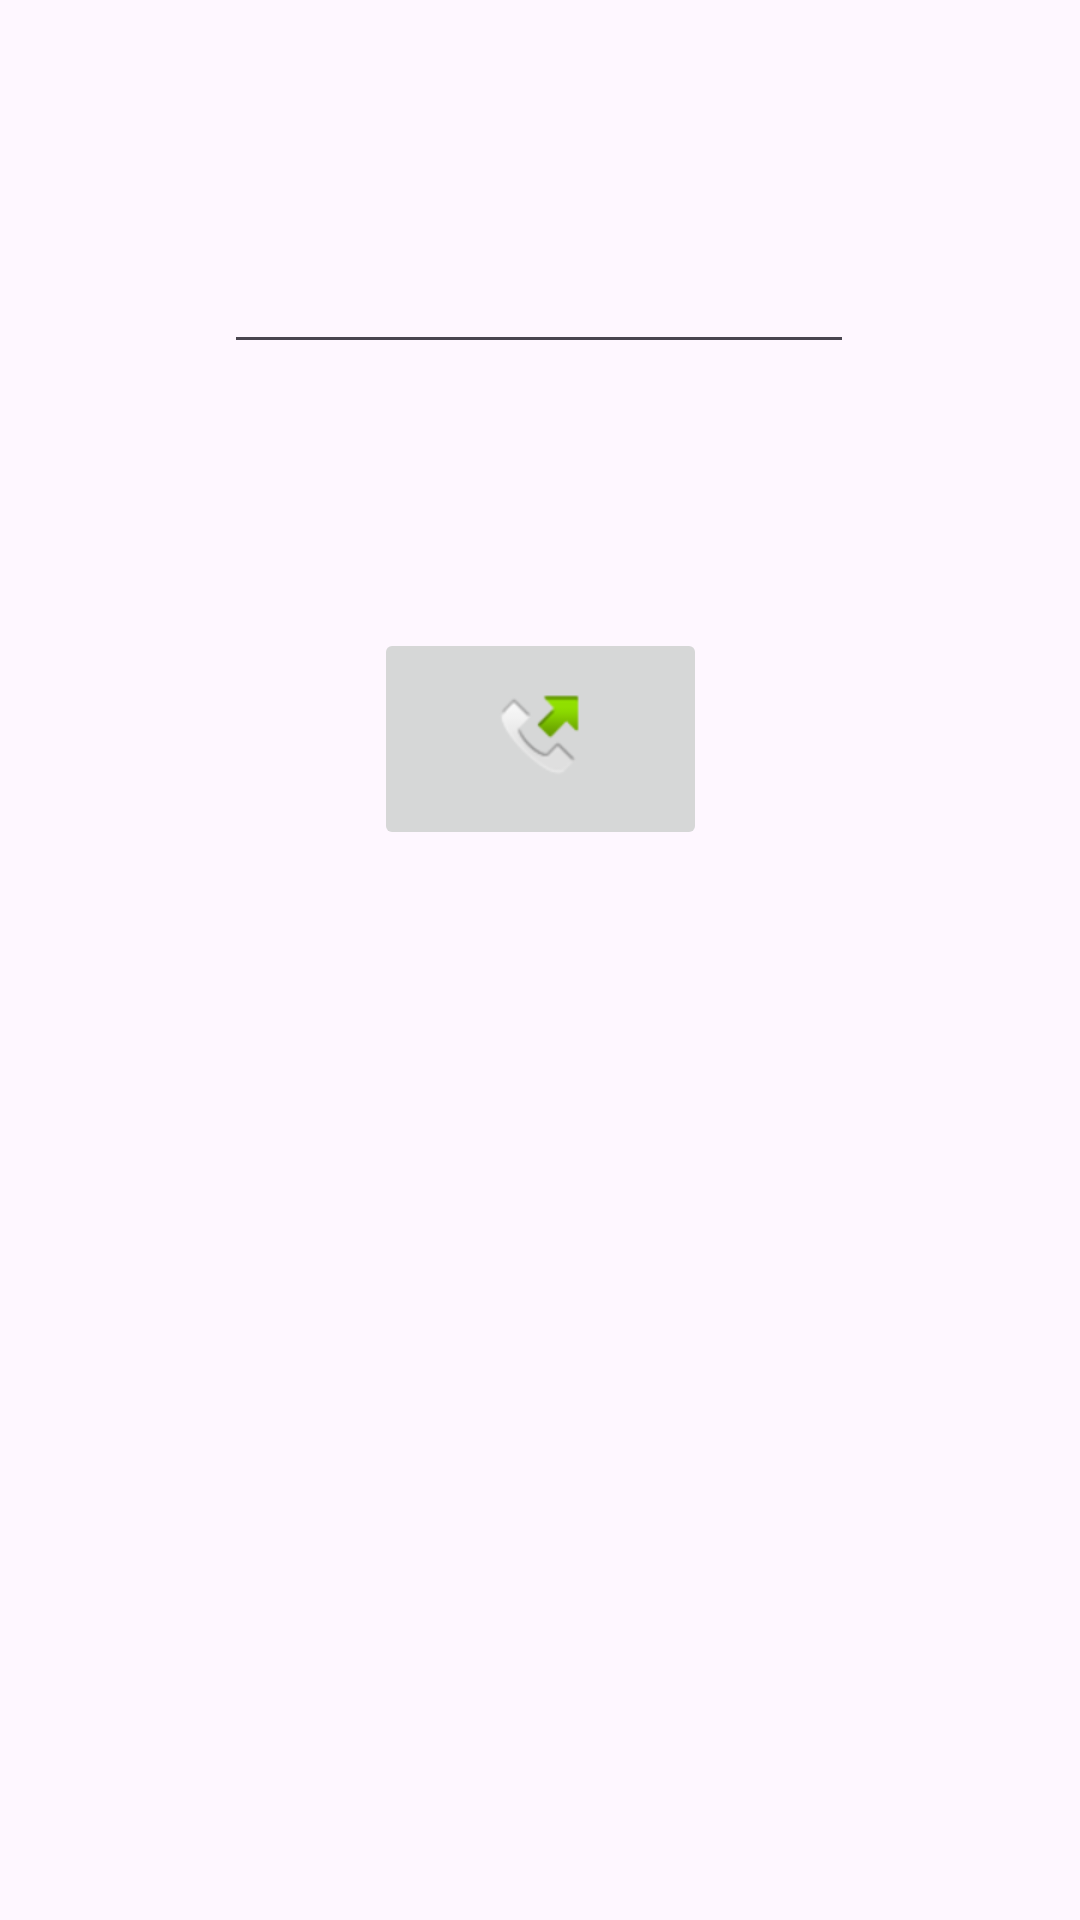

Where to tap for icons on this 1080×1920 app screen, as [x,y]:
sym call outgoing: [540,739]
